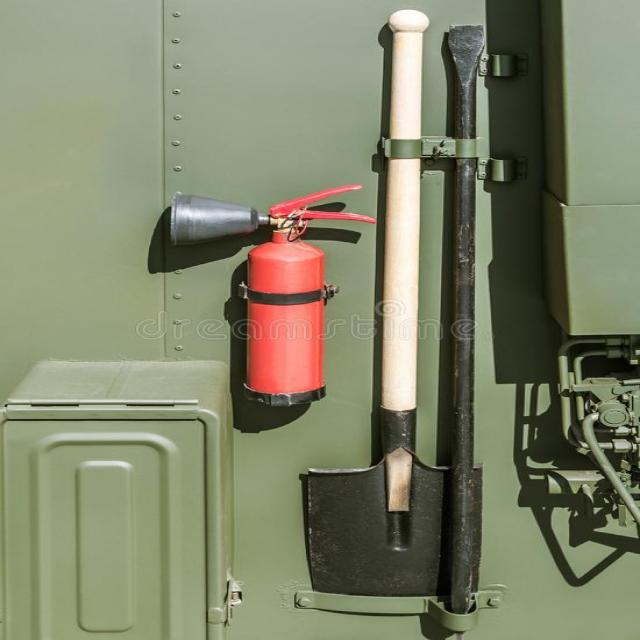fire_extinguisher: (157, 182, 379, 409)
